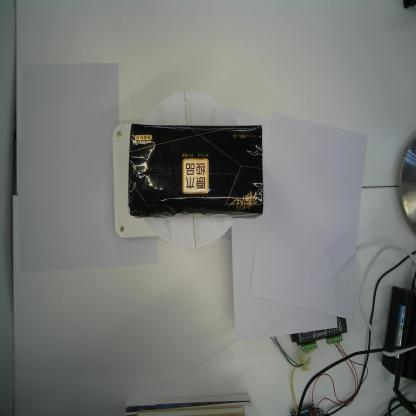Tissue: (127, 122, 264, 221)
